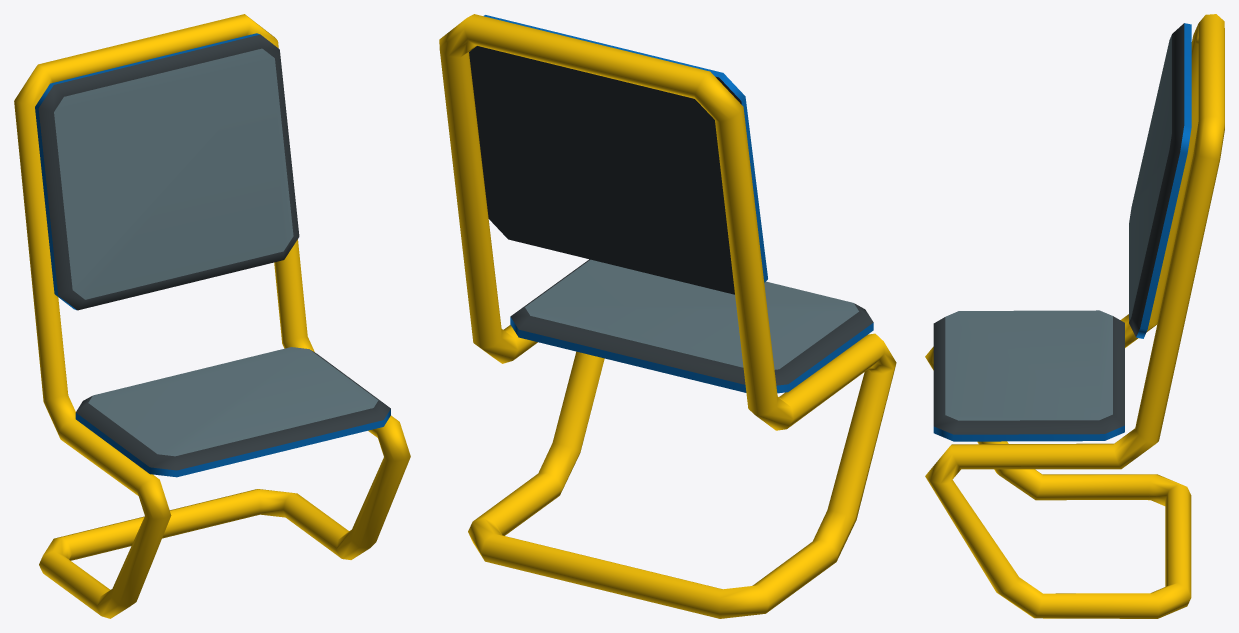
Rendered from Chair_012.fbx.
The picture shows the model from 3 angles, left to right: view 1: azimuth 30°, elevation 25°; view 2: azimuth 150°, elevation 25°; view 3: azimuth 270°, elevation 25°; orthographic projection. The views are drawn at different scales.
Visible parts, largest first — view 1: Chair_012; view 2: Chair_012; view 3: Chair_012.
Boxes of the visible parts, <box> form: Chair_012: <box>14,14,410,618</box>; Chair_012: <box>439,14,896,618</box>; Chair_012: <box>925,14,1224,618</box>.
Bounding box in the file's own units: 61.75 × 59.96 × 109.
